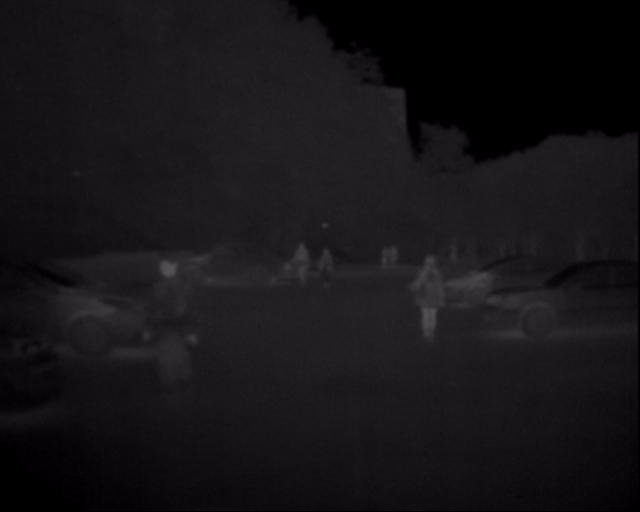person: (135, 234, 205, 425), (401, 226, 453, 341), (313, 238, 344, 296), (288, 231, 309, 282), (390, 242, 410, 276), (374, 243, 394, 273)
